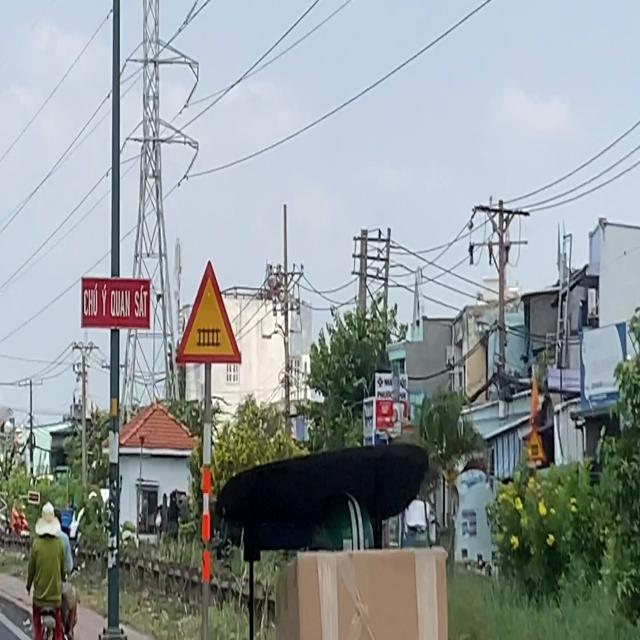Nguy hiem: (171, 252, 248, 371)
